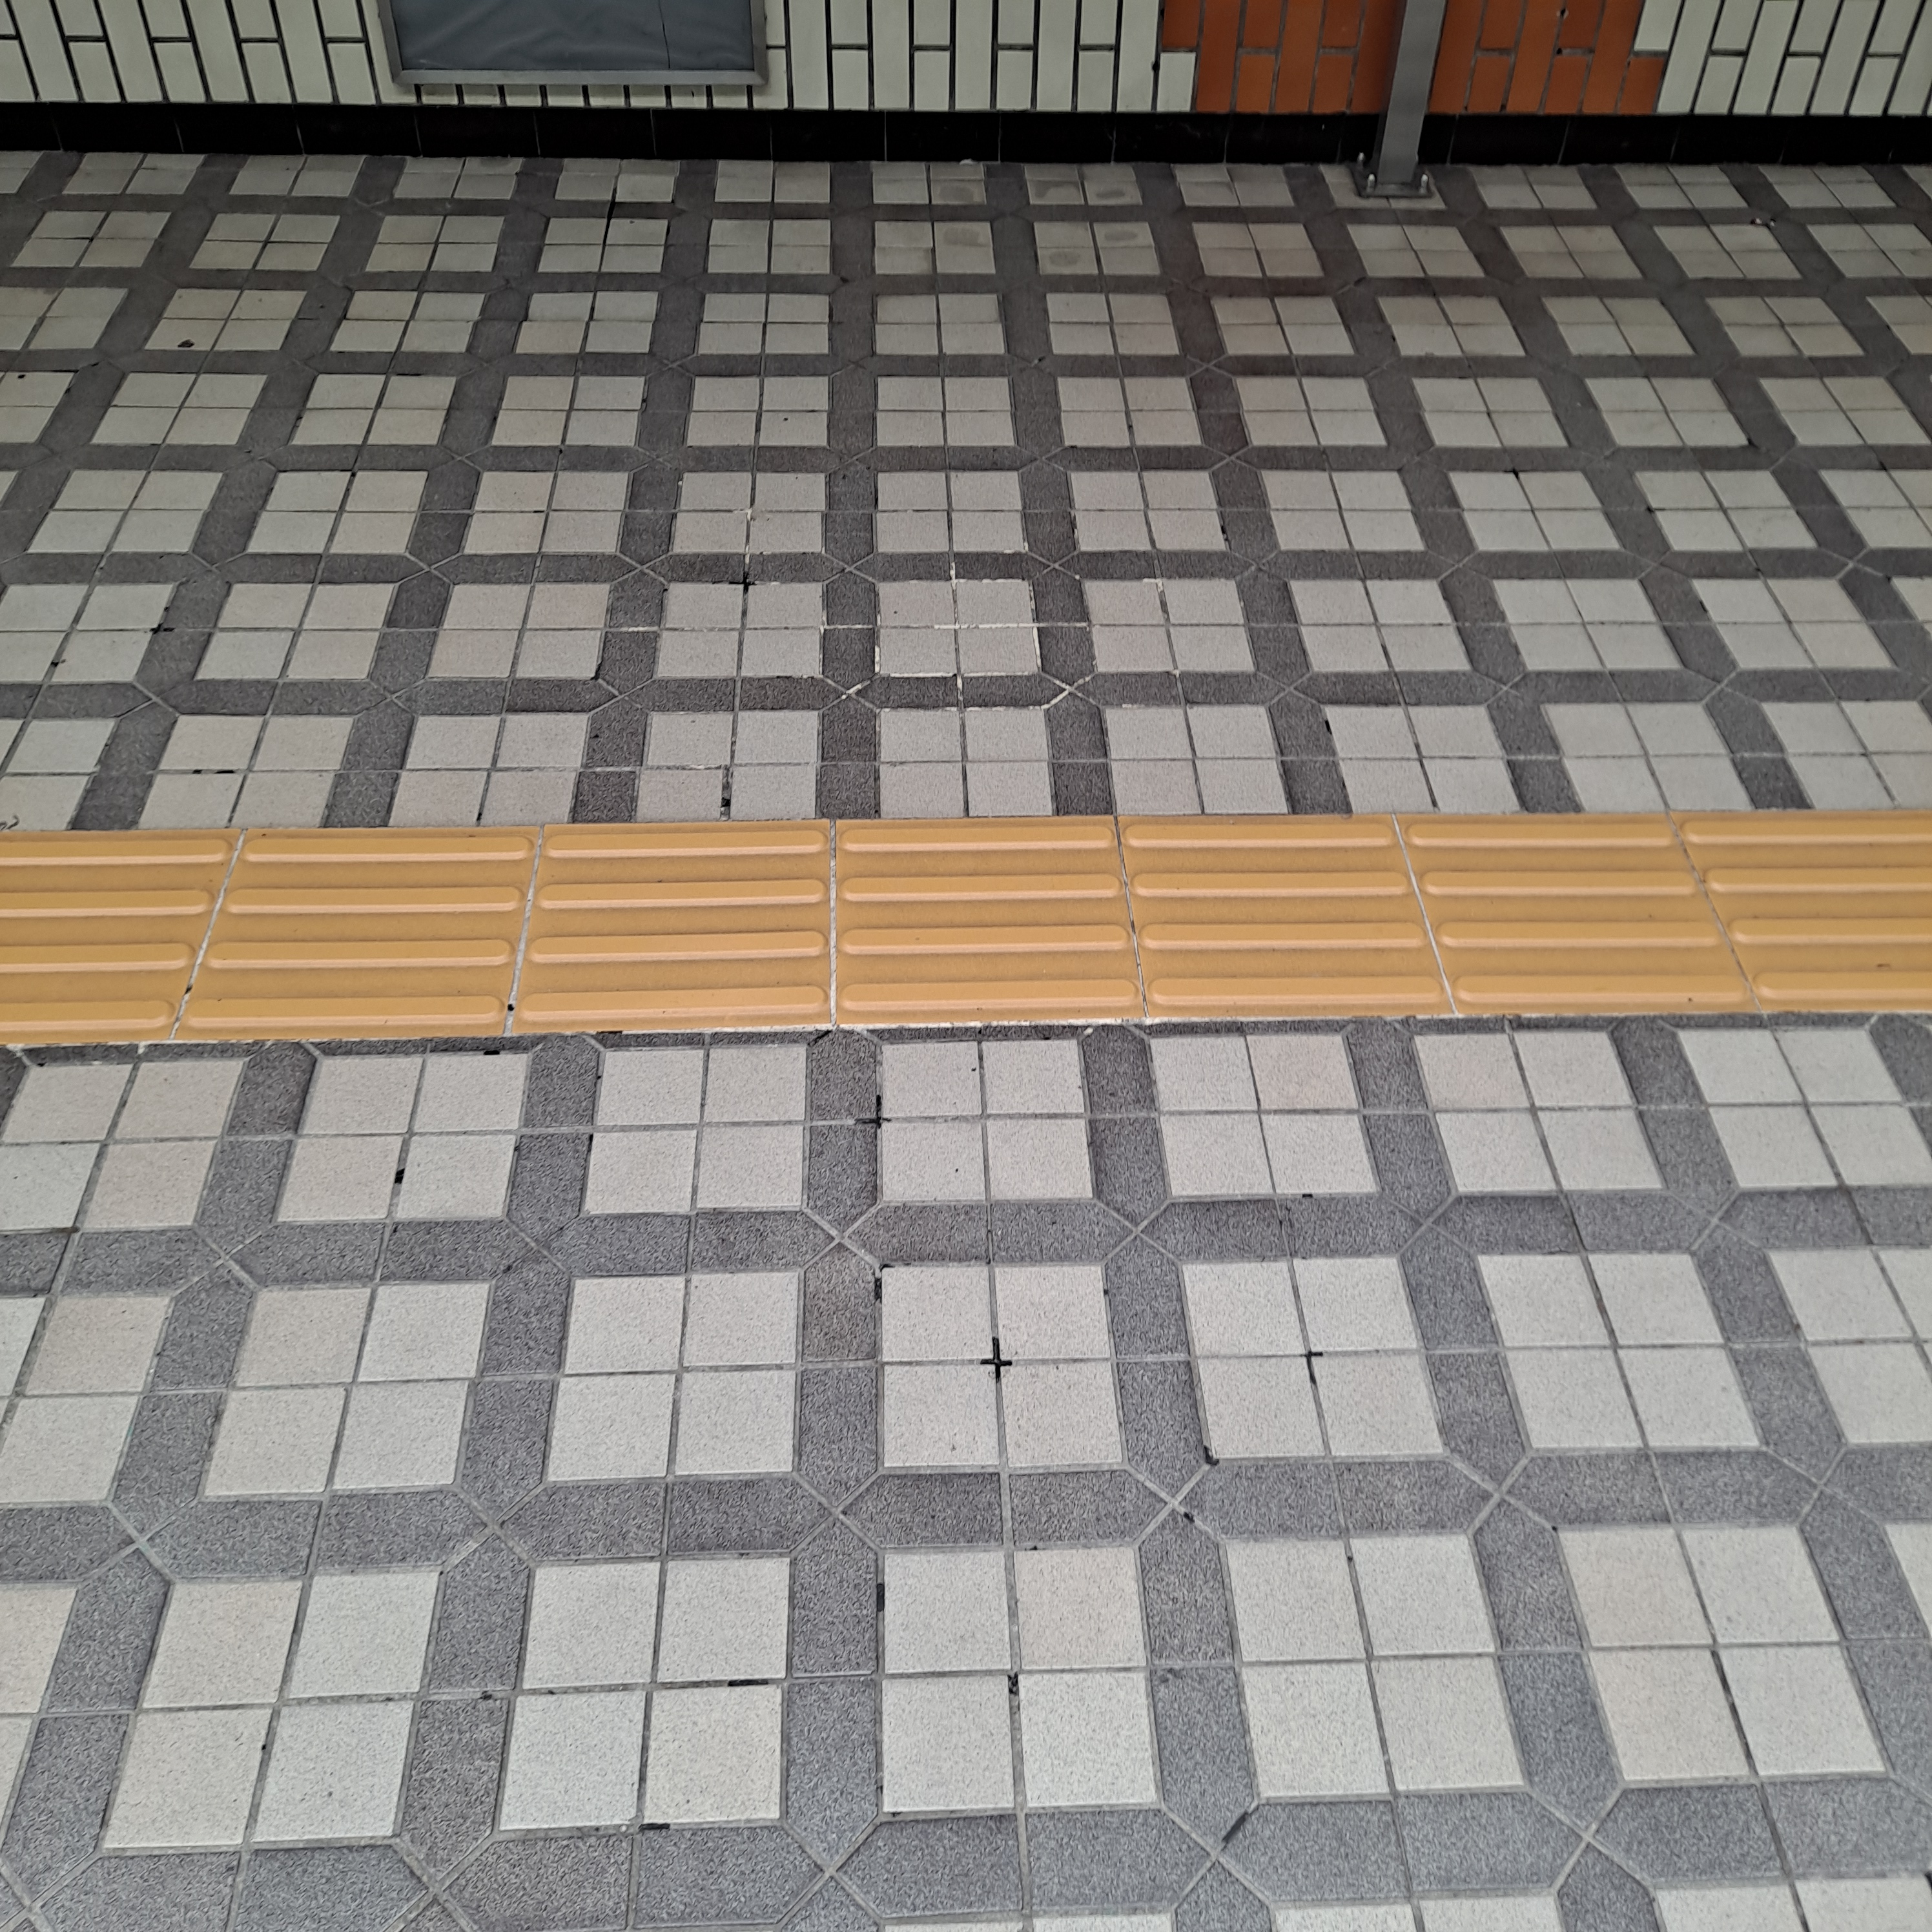guideBlock: (1138, 801, 1442, 1031), (218, 832, 518, 1063), (1422, 782, 1718, 1005), (531, 814, 828, 1033), (839, 821, 1132, 1026), (1709, 805, 1932, 1017), (12, 828, 184, 1012)
